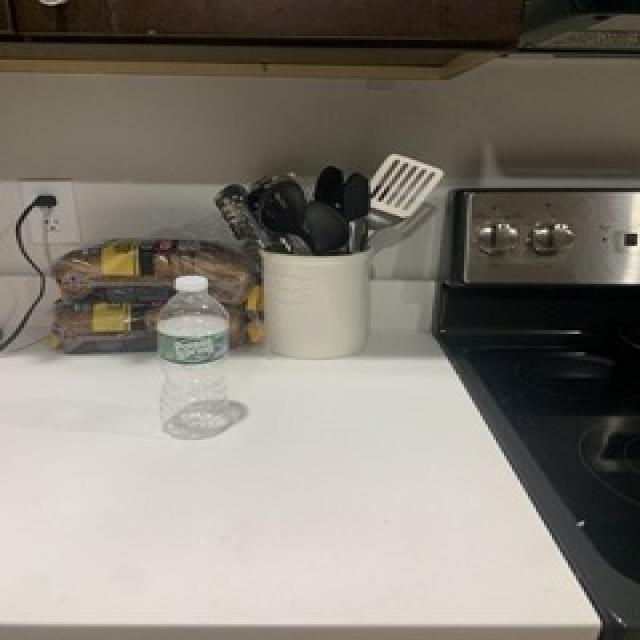water_bottle: (154, 274, 234, 442)
